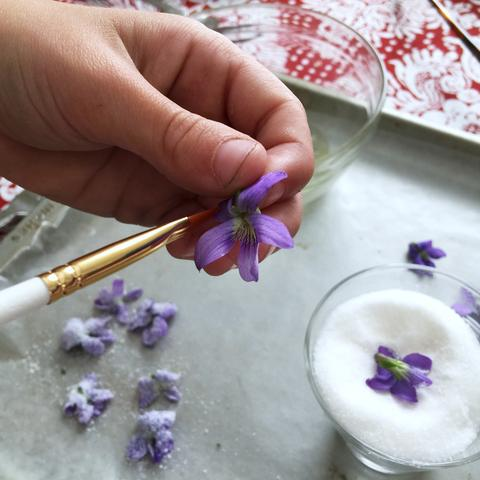violet: (186, 164, 302, 296), (363, 333, 442, 402)
